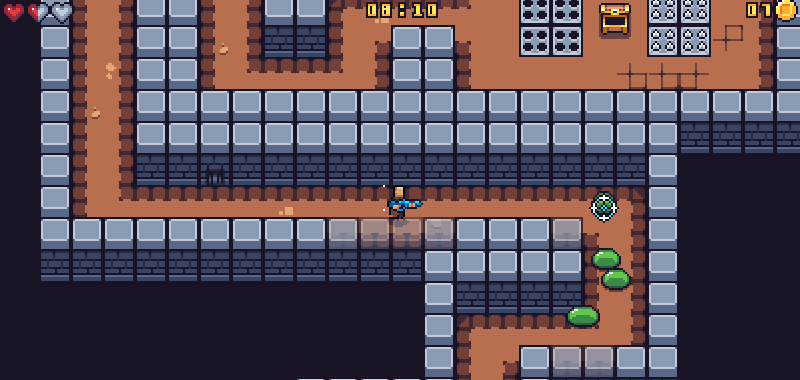enemy_slug: (563, 302, 605, 332), (587, 243, 626, 272), (597, 266, 636, 292), (588, 189, 619, 220)
trap_off: (518, 0, 583, 56), (647, 0, 710, 56)
treasury_open: (597, 0, 633, 40)
